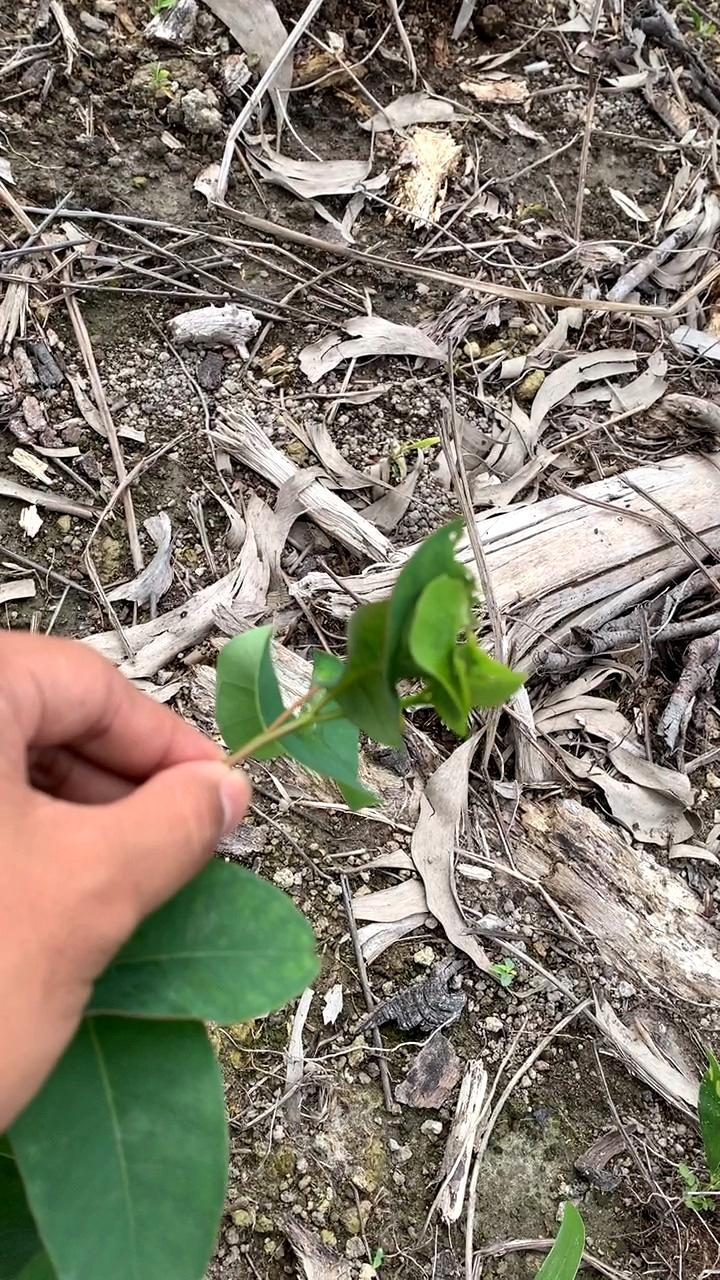Leaf Roller - Leaf: (313, 528, 533, 759)
